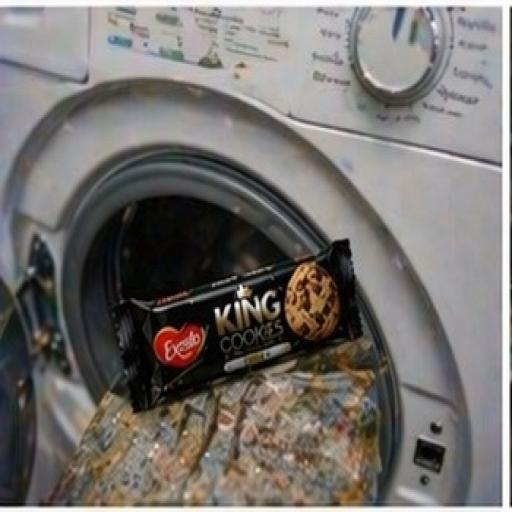king-cooking: (97, 210, 381, 422)
